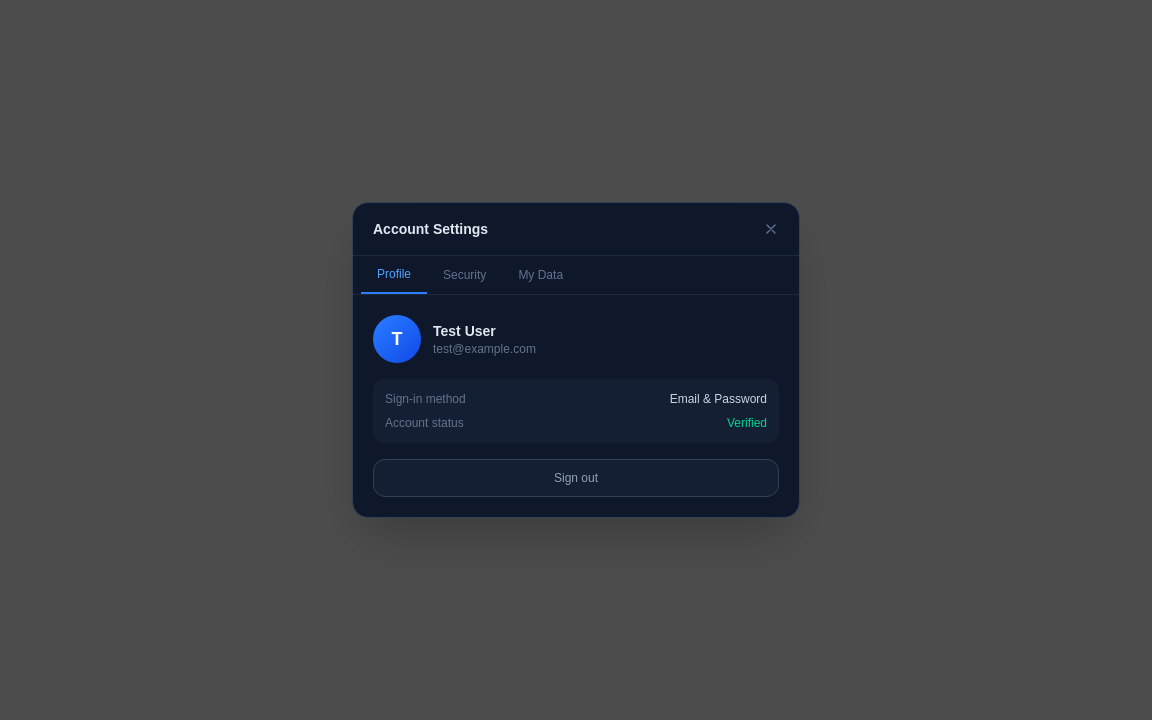
Scenario: ProfileModal — Security tab (email provider) › renders the three password fields with proper label associations
The width and height of the screenshot is (1152, 720).
Click the button "Security" at (465, 275), box [427,256,502,294]
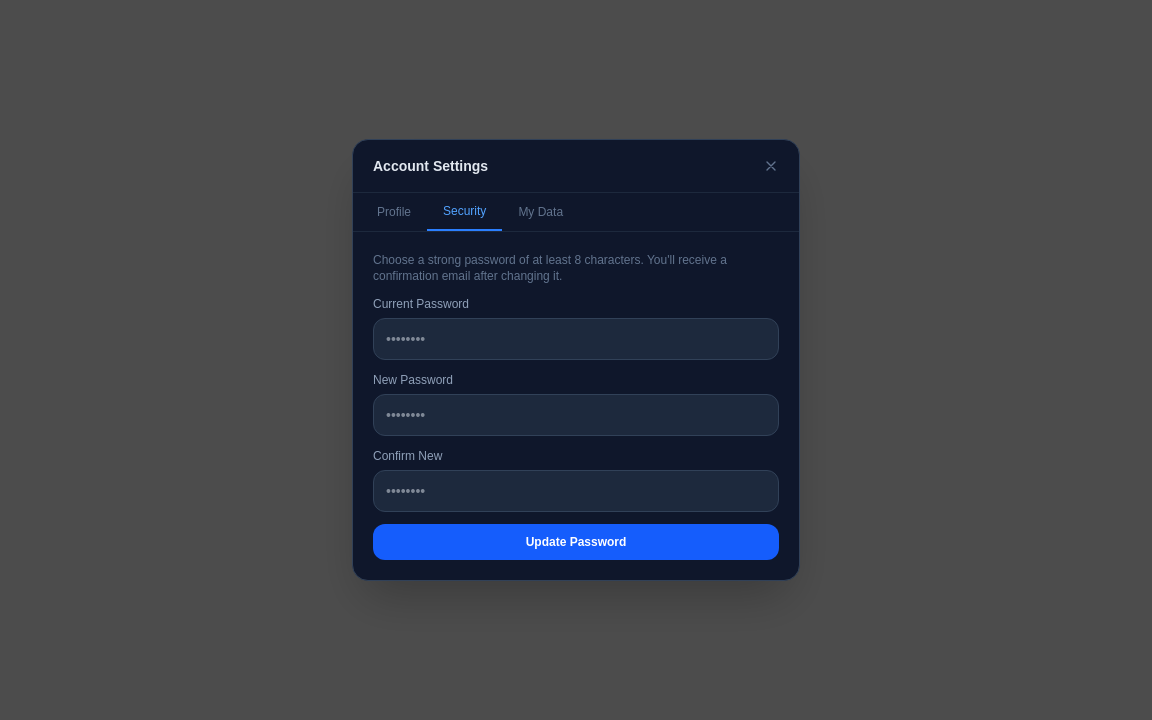
Now the password field labelled "Current Password" is shown, box [373,318,779,360]
Now the password field labelled "New Password" is shown, box [373,394,779,436]
Now the password field labelled "Confirm New" is shown, box [373,470,779,512]
